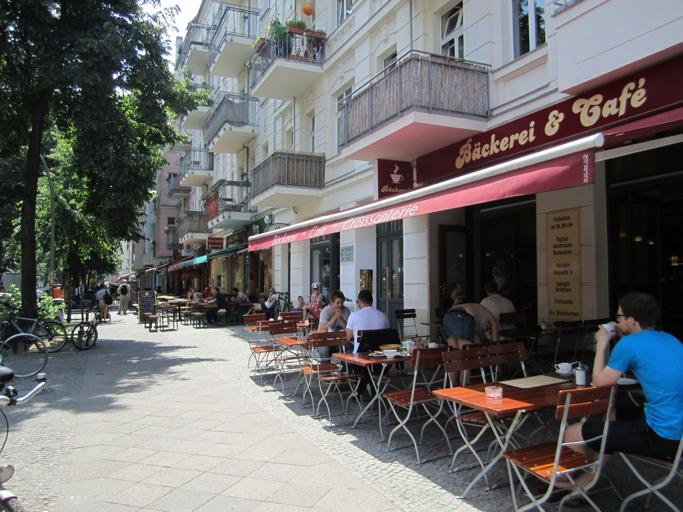non-vehicle: (0, 362, 47, 511), (0, 300, 67, 351), (0, 331, 48, 378), (72, 300, 98, 351)
